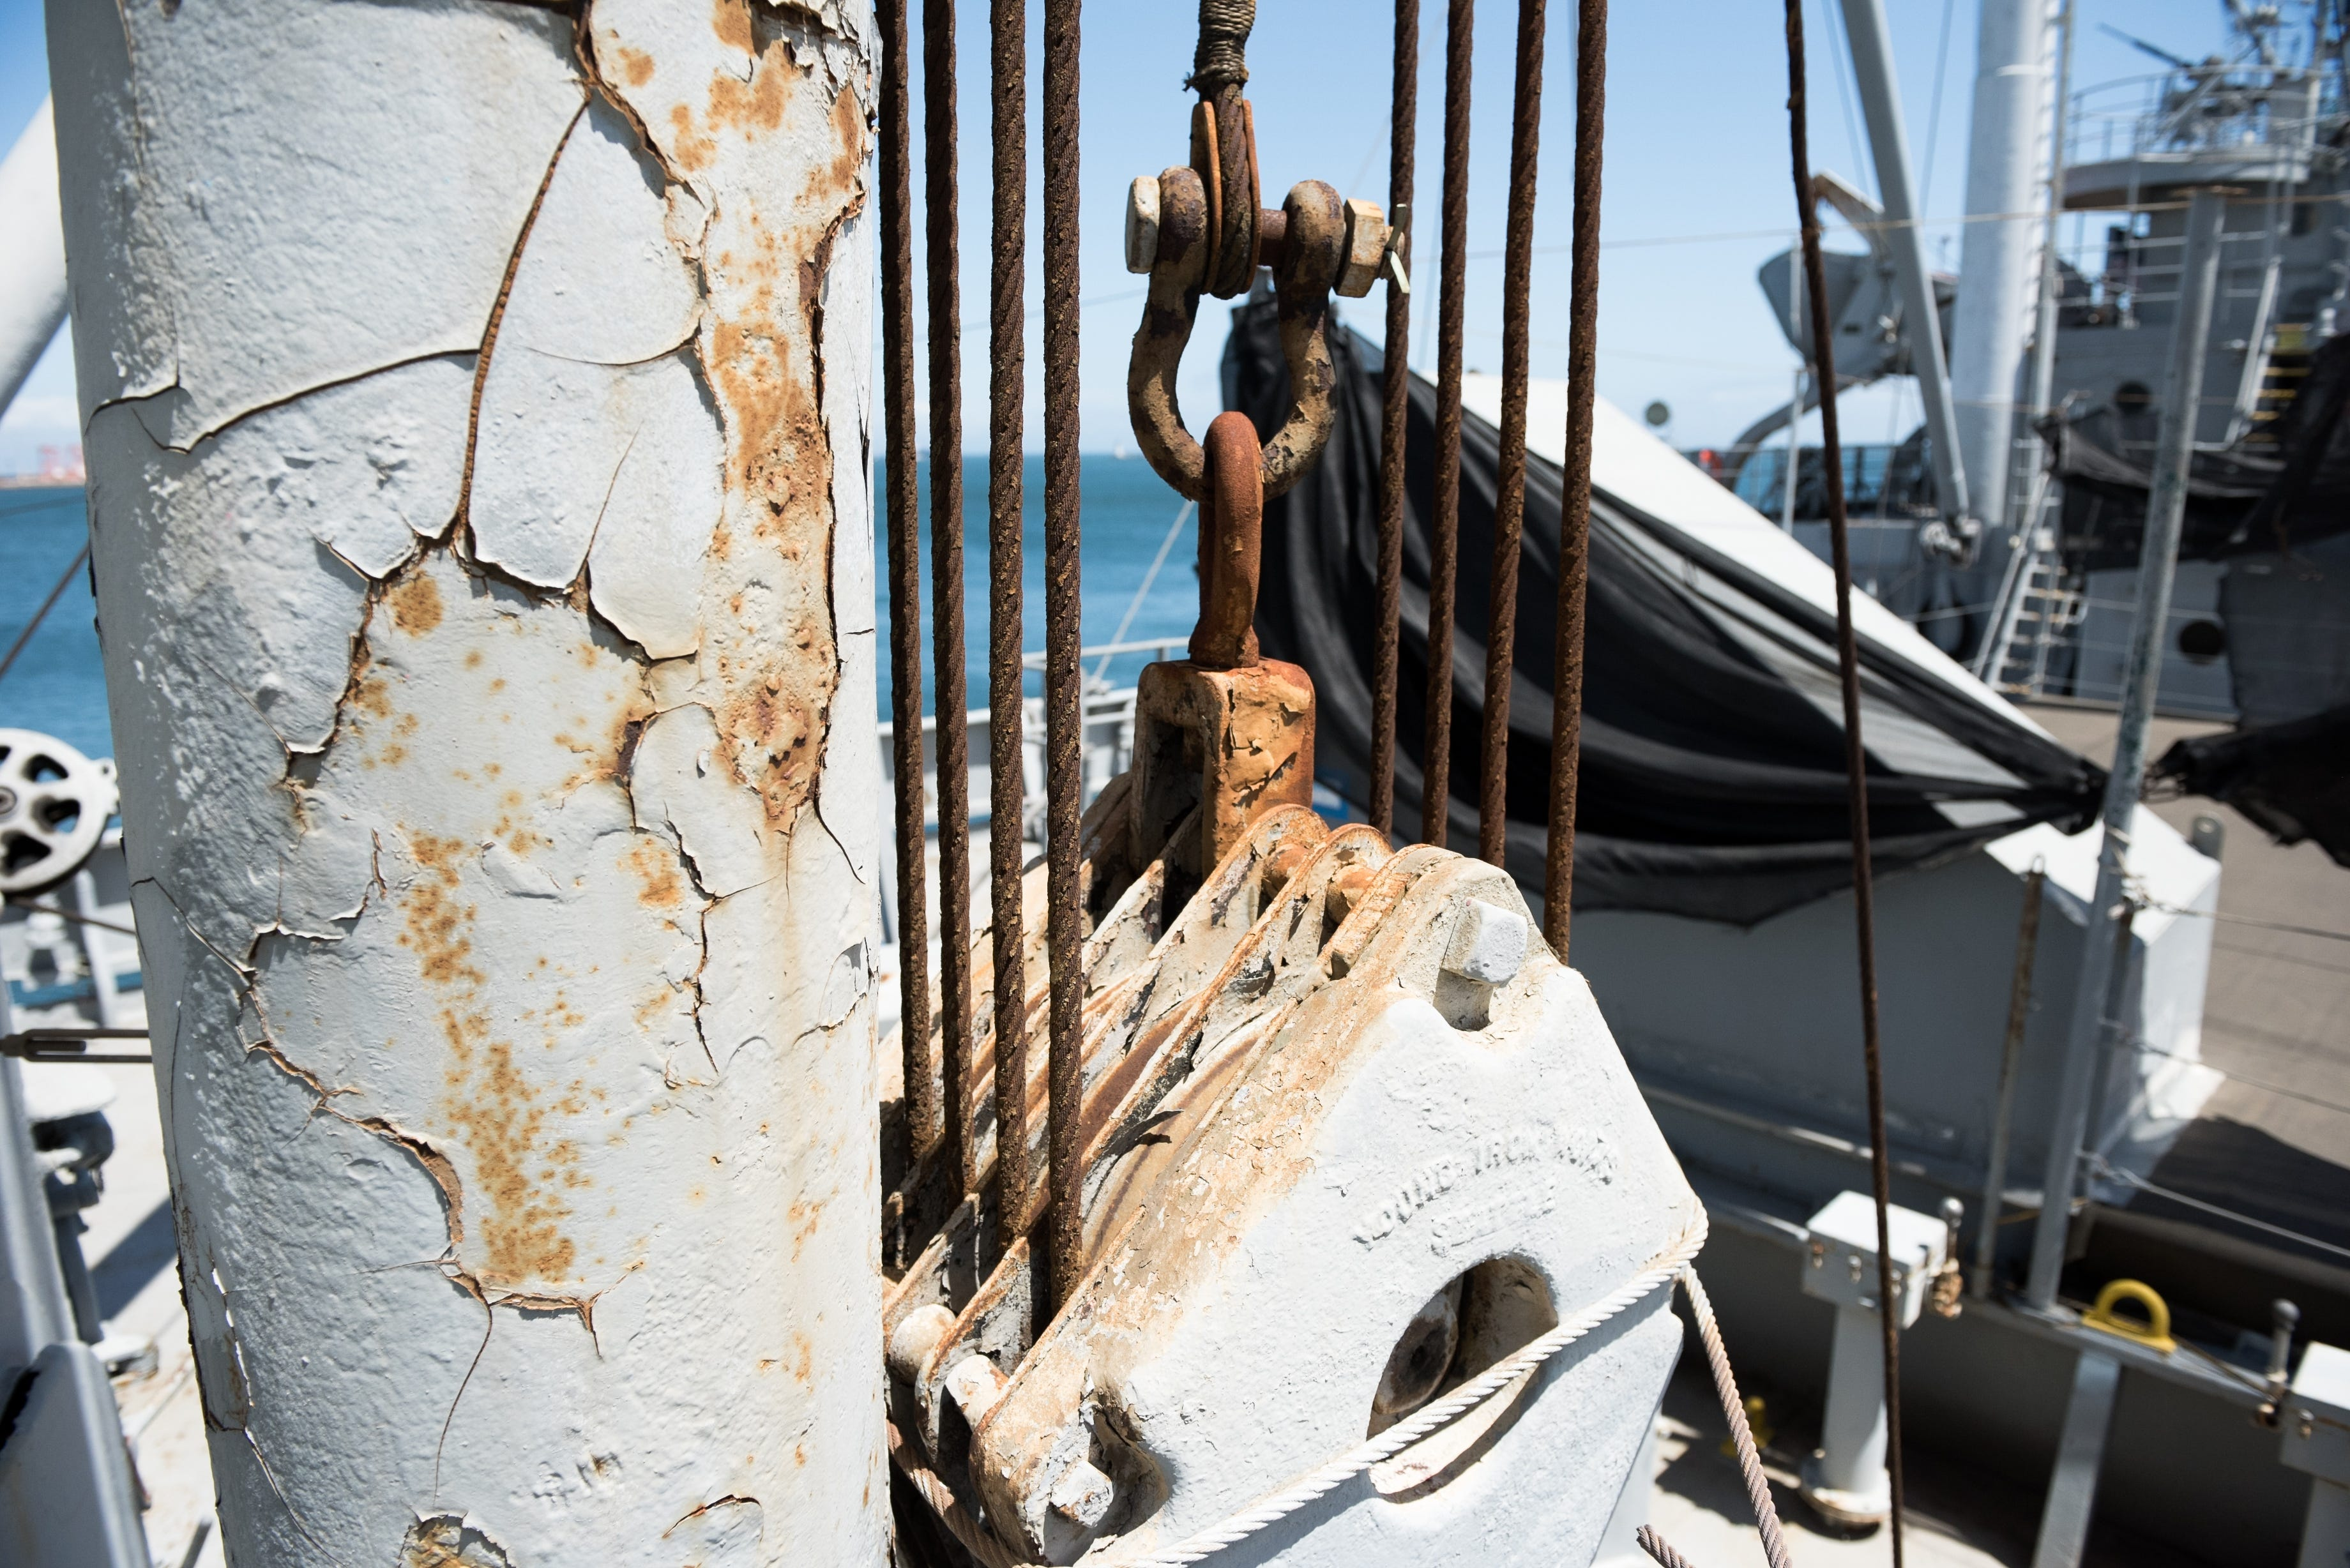rust: (548, 23, 850, 807), (1130, 96, 1304, 847)
